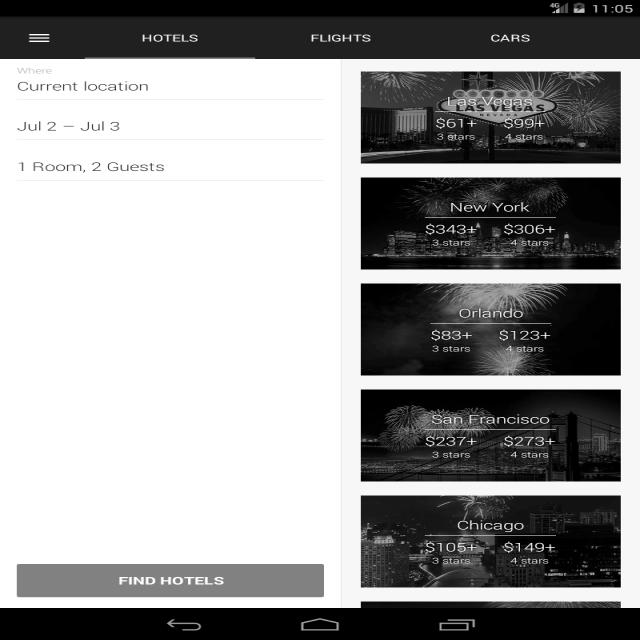Button: (20, 562, 328, 595)
ImageButton: (24, 31, 66, 45)
ImageView: (354, 62, 638, 170), (355, 278, 627, 378), (346, 176, 624, 268), (363, 493, 624, 589), (358, 390, 612, 480)
TextView: (6, 108, 155, 138), (18, 154, 188, 176), (7, 80, 173, 100), (292, 23, 385, 51), (128, 23, 202, 49), (479, 28, 538, 48)
